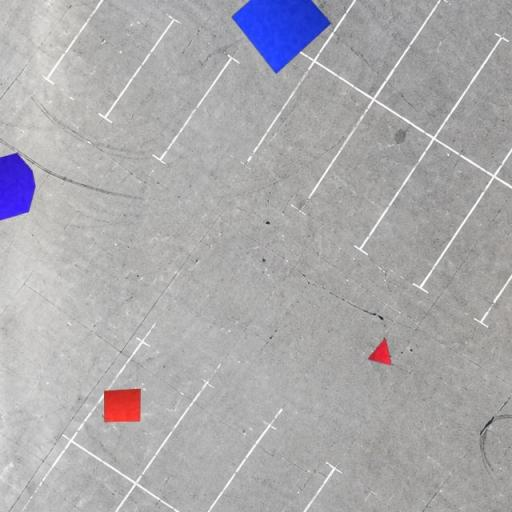BLUE_SQUARE: (230, 0, 332, 75)
RED_SQUARE: (104, 388, 141, 422)
